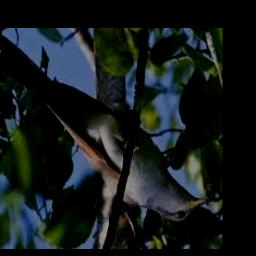Cuckoo: (0, 35, 205, 223)
